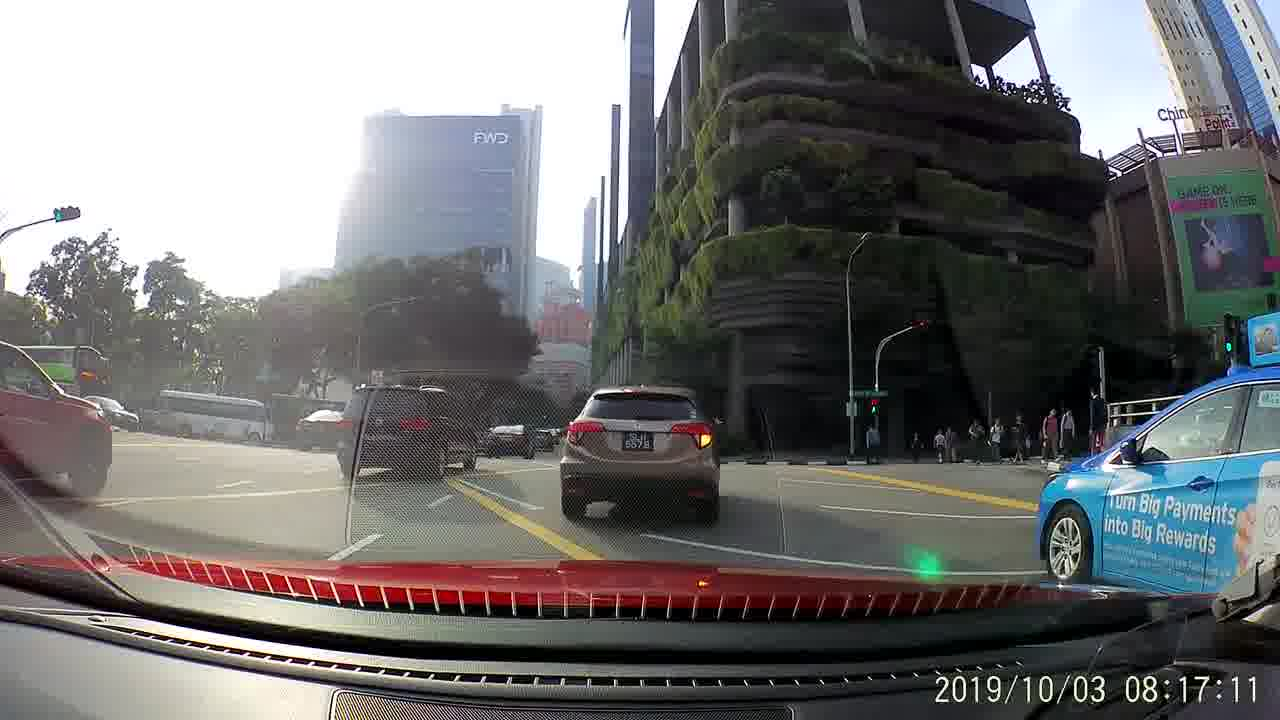bus: (154, 387, 278, 448), (24, 345, 111, 398)
car: (1024, 314, 1278, 590), (556, 381, 720, 536), (0, 334, 114, 496), (335, 380, 480, 479), (296, 405, 345, 454), (78, 390, 139, 429), (484, 421, 537, 462)
